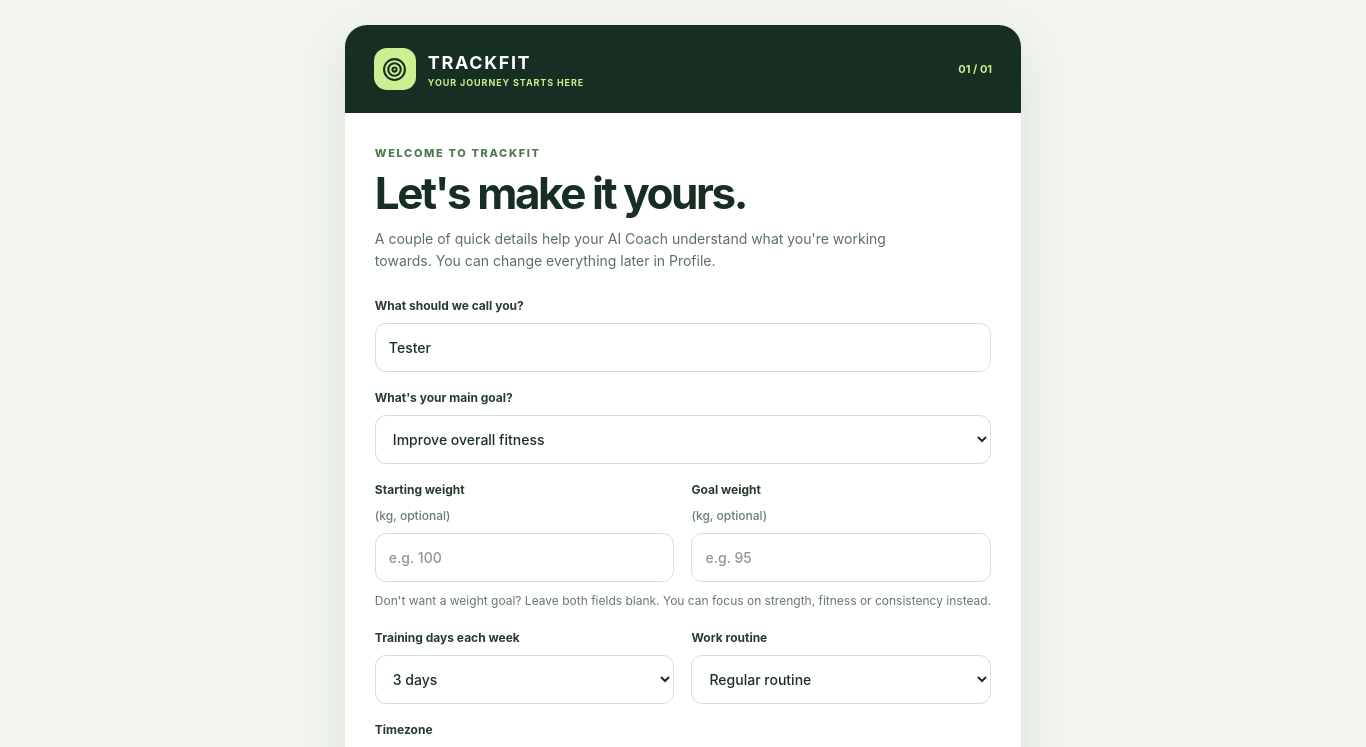
Test: TrackFit first-login goals › prompts a new member for goals and saves them before allowing navigation
The width and height of the screenshot is (1366, 747).
Expected: the heading "Let's make it yours." is shown, 375,166 -> 746,220
Expected: the text "My coaching dashboard" is not shown
Type "100" into the number field labelled "Starting weight (kg, optional)". click: (525, 557)
box: 375,533 -> 674,582
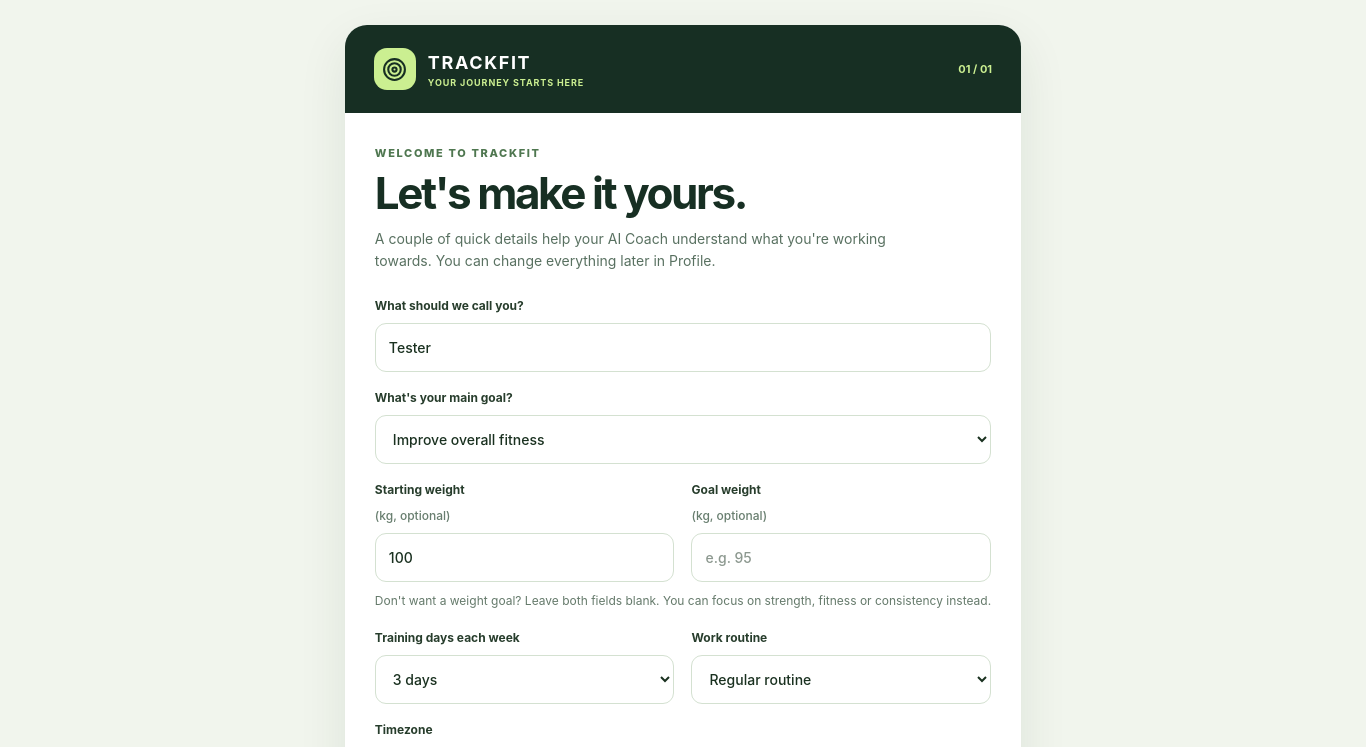
Type "95" into the number field labelled "Goal weight (kg, optional)". click: (841, 557)
box: 692,533 -> 991,582
(page scrolled)
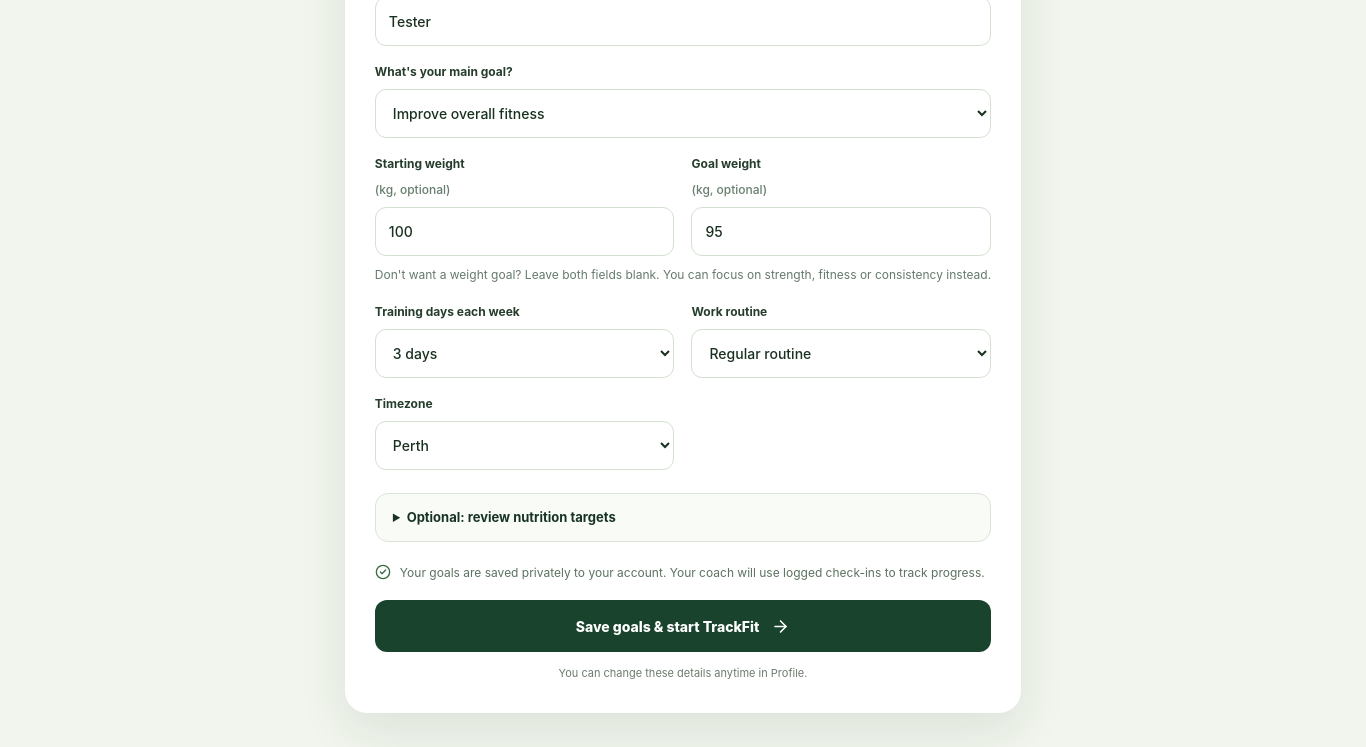
Click the button "Save goals & start TrackFit". click: (683, 626)
box: 375,600 -> 991,652
(page scrolled)
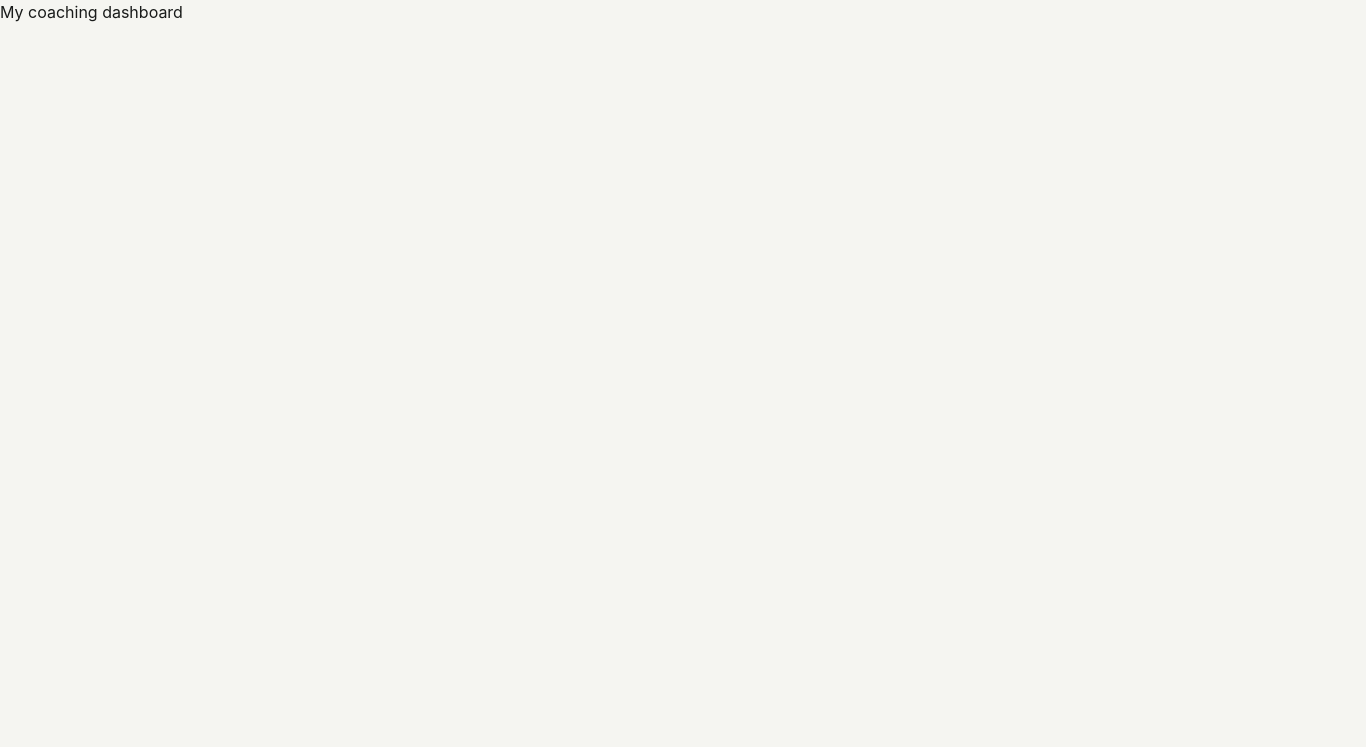
Now the text "My coaching dashboard" is shown, box 0,2 -> 183,22
